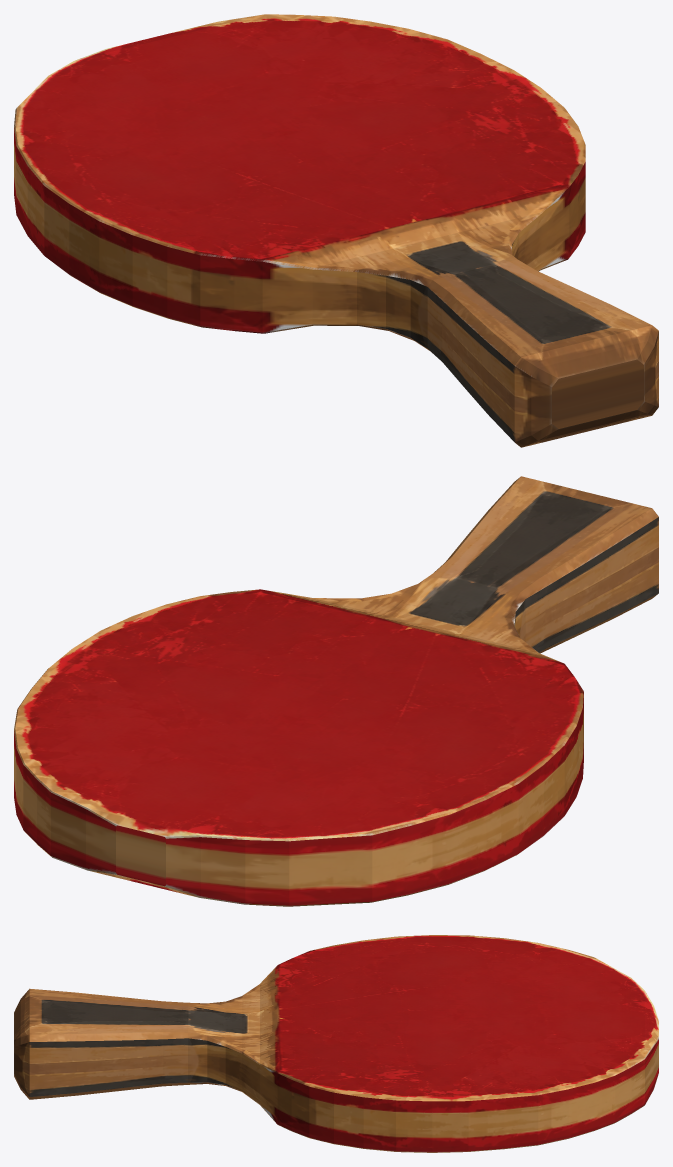
Rendered from TableTennisPaddle.fbx.
3 renders of one model, top to bottom at view 1: azimuth 30°, elevation 25°; view 2: azimuth 150°, elevation 25°; view 3: azimuth 270°, elevation 25°, orthographic. The views are drawn at different scales.
Visible parts, largest first — view 1: TableTennisPaddle_LowPoly; view 2: TableTennisPaddle_LowPoly; view 3: TableTennisPaddle_LowPoly.
Boxes of the visible parts, left/top/right/bottom form: TableTennisPaddle_LowPoly: left=14, top=14, right=658, bottom=447; TableTennisPaddle_LowPoly: left=14, top=476, right=658, bottom=906; TableTennisPaddle_LowPoly: left=14, top=935, right=658, bottom=1152.
Size of the model in its own units: 15.8 by 2.89 by 25.97.
1 material, 1 textured.
